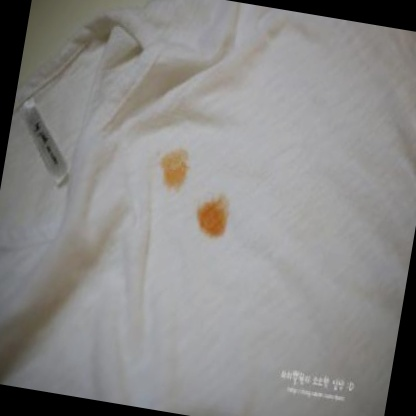kimchi: (160, 145, 196, 193), (192, 196, 230, 241)
